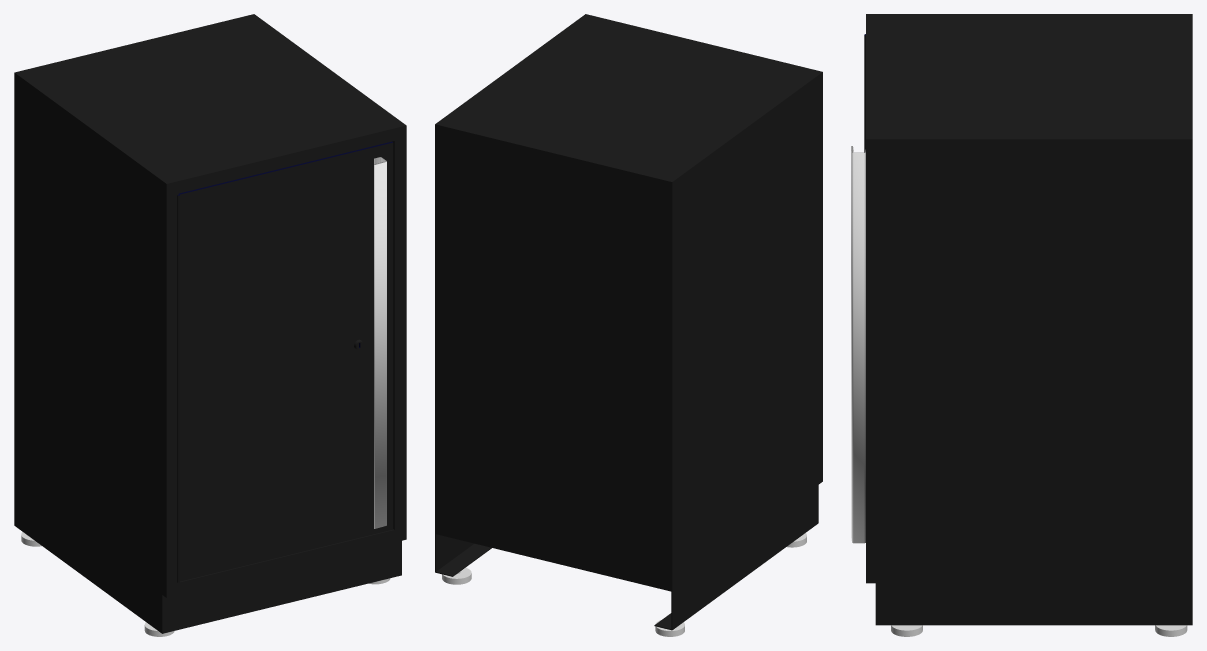
Rendered from rightDoor1Base.glb.
3 views of the same model, side by side, from view 1: azimuth 30°, elevation 25°; view 2: azimuth 150°, elevation 25°; view 3: azimuth 270°, elevation 25° (orthographic). The views are drawn at different scales.
Visible parts, largest first — view 1: shellFp, doors, handlesFp, hingeFp; view 2: shellFp, baseFeet; view 3: shellFp, handlesFp, baseFeet.
Boxes of the visible parts, x1,y1,x2,y2 form: shellFp: (14,14,406,633); doors: (177,141,393,581); handlesFp: (374,157,386,528); hingeFp: (177,195,179,582); shellFp: (435,14,822,630); baseFeet: (442,533,806,636); shellFp: (866,14,1192,625); handlesFp: (851,146,865,543); baseFeet: (891,625,1187,636).
Bounding box in the file's own units: 0.5123 × 0.9382 × 0.5842.
Materials: 4 (1 with a texture image).
